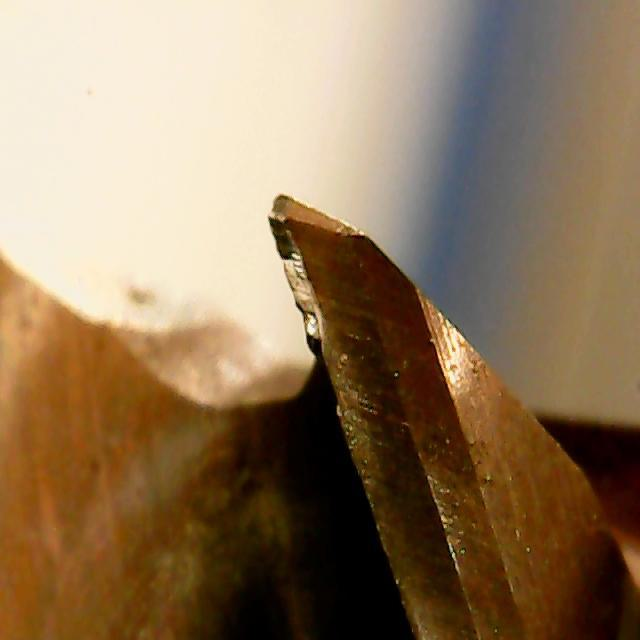Tool-wear-class-1: (241, 173, 390, 437)
